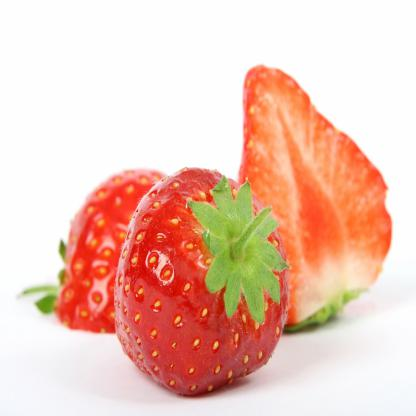strawberry: (233, 67, 389, 327), (114, 164, 286, 398), (42, 162, 173, 331)
